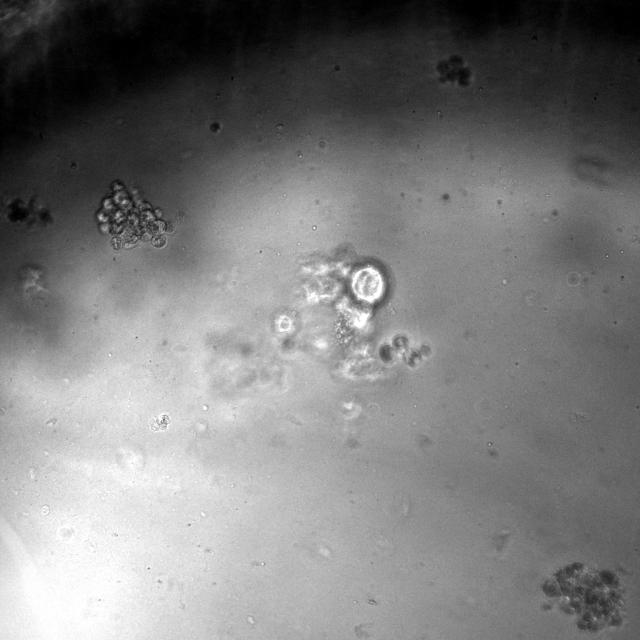organoid: (300, 244, 394, 379), (542, 562, 624, 632), (96, 180, 174, 249), (378, 333, 431, 369), (0, 197, 52, 229), (437, 55, 470, 85)
